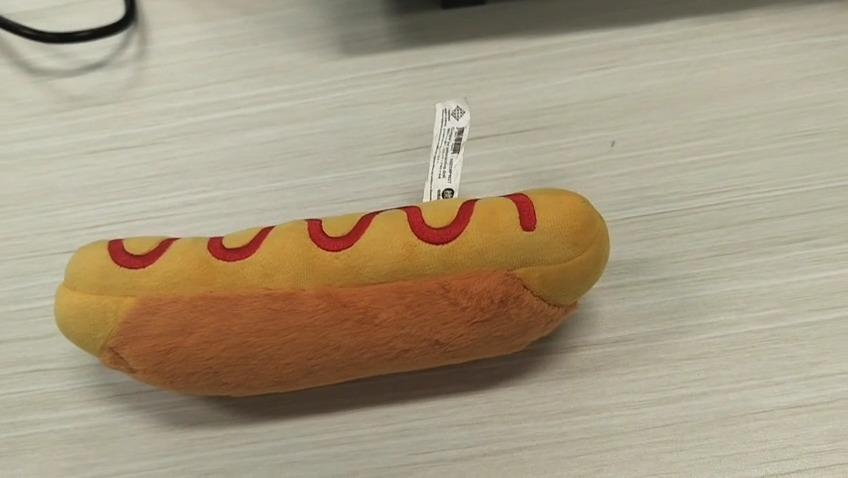hotdog: (52, 188, 611, 397)
